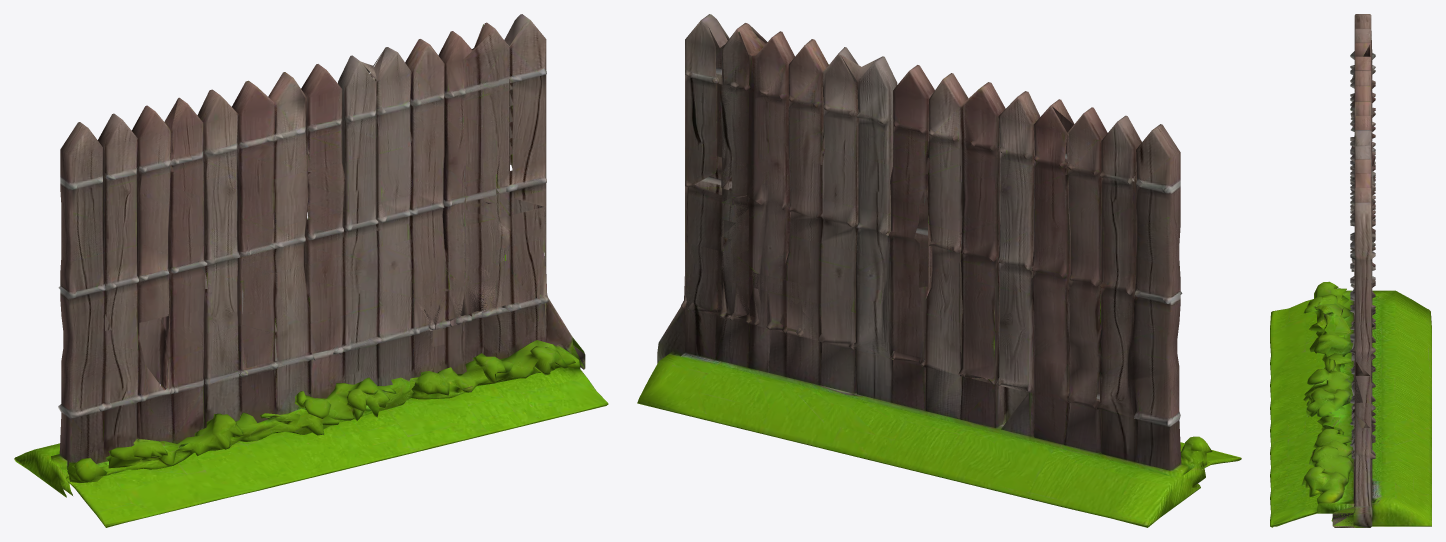
The model's file is fence.glb.
3 renders of one model, left to right at view 1: azimuth 30°, elevation 25°; view 2: azimuth 150°, elevation 25°; view 3: azimuth 270°, elevation 25°, orthographic. The views are drawn at different scales.
Size of the model in its own units: 1.95 by 1.29 by 0.6066.
1 material, 1 textured.
